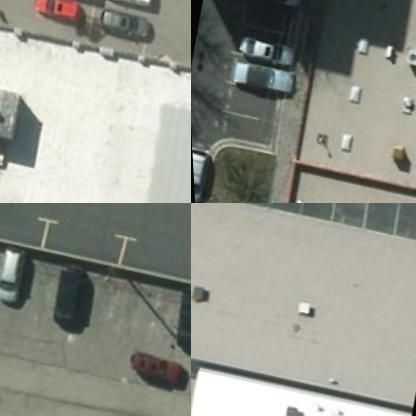car: (123, 348, 190, 398), (88, 3, 164, 44), (45, 261, 90, 330), (222, 60, 294, 102), (191, 145, 223, 202), (238, 35, 292, 68), (31, 0, 91, 29), (0, 245, 26, 307), (167, 286, 190, 352), (97, 0, 158, 15), (247, 0, 304, 11)
